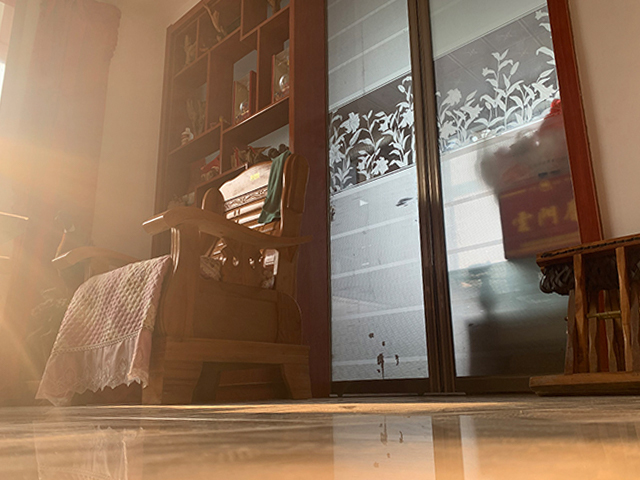sofa: (529, 232, 639, 395)
stool: (34, 152, 318, 405)
